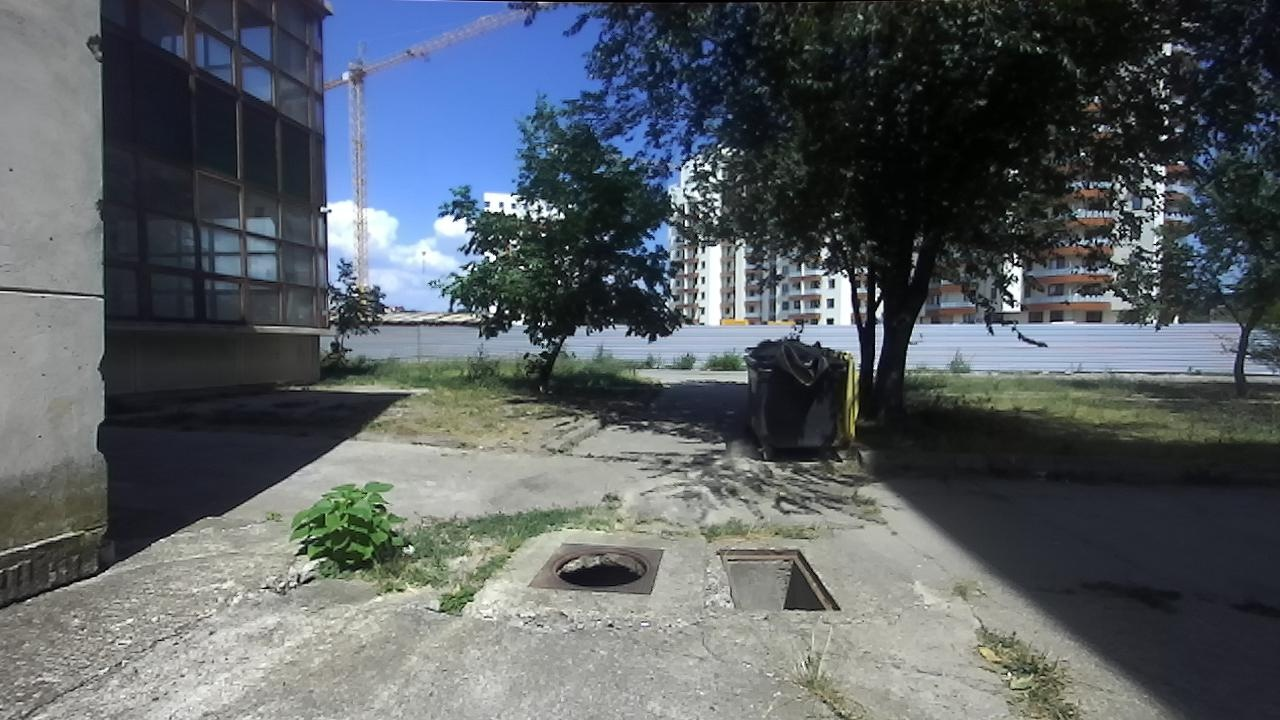drain: (715, 544, 843, 615), (547, 544, 651, 590)
